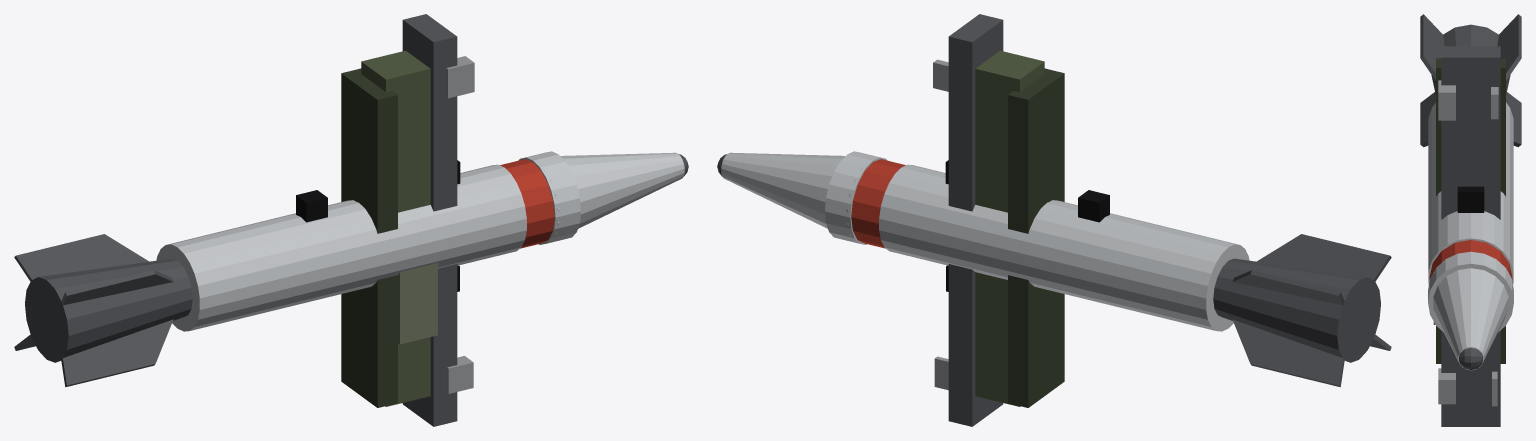
Rendered from ExampleMod_MeshAtlas.glb.
The picture shows the model from 3 angles, left to right: view 1: azimuth 30°, elevation 25°; view 2: azimuth 150°, elevation 25°; view 3: azimuth 270°, elevation 25°; orthographic projection. The views are drawn at different scales.
Visible parts, largest first — view 1: ExampleMod_Subpart_Mk82, ExampleMod_Subpart_BombRack; view 2: ExampleMod_Subpart_Mk82, ExampleMod_Subpart_BombRack; view 3: ExampleMod_Subpart_Mk82, ExampleMod_Subpart_BombRack.
Boxes of the visible parts, x1,y1,x2,y2 form: ExampleMod_Subpart_Mk82: (14,151,688,387); ExampleMod_Subpart_BombRack: (341,14,474,426); ExampleMod_Subpart_Mk82: (717,151,1391,387); ExampleMod_Subpart_BombRack: (933,14,1064,426); ExampleMod_Subpart_Mk82: (1420,14,1521,370); ExampleMod_Subpart_BombRack: (1433,46,1505,426).
Bounding box in the file's own units: 2.27 × 1.29 × 0.321.
Materials: 1 (1 with a texture image).
